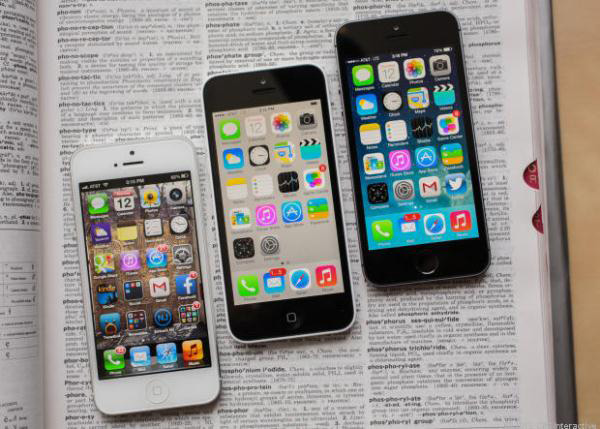iphone: (61, 134, 231, 421)
iphone5: (60, 133, 230, 420), (334, 10, 504, 297)
